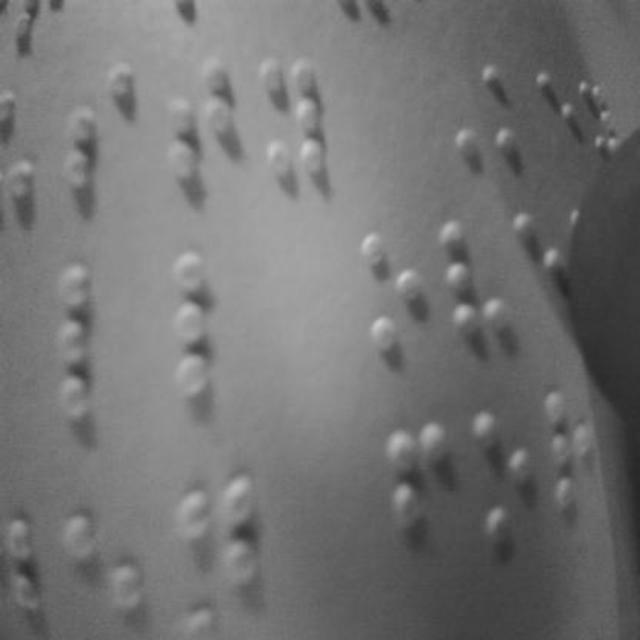braiile: (52, 266, 138, 416), (172, 248, 258, 394), (60, 52, 144, 200), (383, 414, 461, 570), (360, 221, 436, 367), (468, 402, 538, 560), (166, 52, 238, 196), (442, 212, 514, 344), (546, 379, 608, 519), (258, 52, 324, 178)
